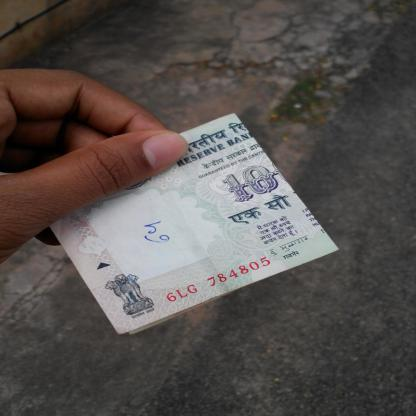Old100Front: (47, 114, 341, 338)
